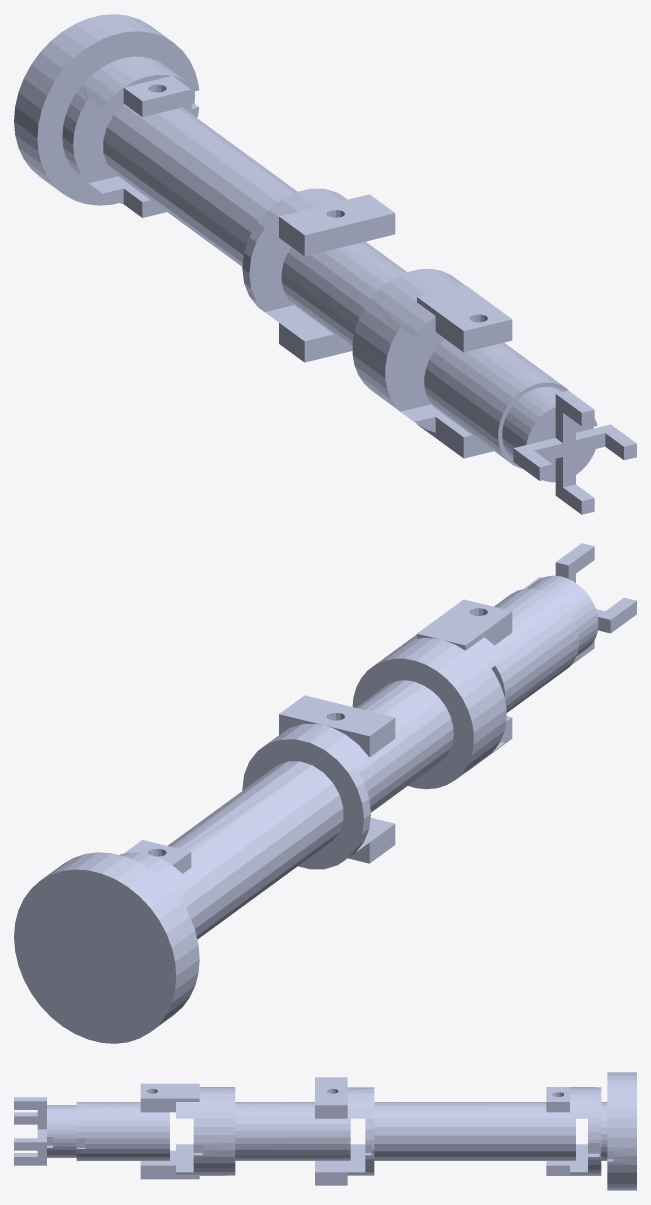
File: my_robot.backup.dae
3 views of the same model, one above another, from view 1: azimuth 30°, elevation 25°; view 2: azimuth 150°, elevation 25°; view 3: azimuth 270°, elevation 25° (orthographic). The views are drawn at different scales.
Visible parts, largest first — view 1: shoulder_link_2, elbow_wrist_link_2, base_link, shoulder_link_1, elbow_wrist_link_1, wrist_claw_link, end_effector, claw; view 2: shoulder_link_2, base_link, elbow_wrist_link_2, elbow_wrist_link_1, wrist_claw_link, claw, shoulder_link_1, end_effector; view 3: shoulder_link_2, elbow_wrist_link_2, elbow_wrist_link_1, wrist_claw_link, base_link, shoulder_link_1, end_effector, claw.
Boxes of the visible parts, x1,y1,x2,y2 form: shoulder_link_2: (103,104,395,362); elbow_wrist_link_2: (352,269,512,458); base_link: (14,14,199,205); shoulder_link_1: (62,56,193,217); elbow_wrist_link_1: (281,241,445,400); wrist_claw_link: (424,339,568,468); end_effector: (513,390,636,514); claw: (502,386,597,482); shoulder_link_2: (167,695,395,939); base_link: (14,852,199,1043); elbow_wrist_link_2: (352,599,512,789); elbow_wrist_link_1: (356,680,453,812); wrist_claw_link: (491,588,578,712); claw: (527,575,598,656); shoulder_link_1: (120,840,193,913); end_effector: (523,543,636,665); shoulder_link_2: (315,1077,575,1185); elbow_wrist_link_2: (140,1083,235,1179); elbow_wrist_link_1: (235,1102,350,1160); wrist_claw_link: (76,1102,169,1160); base_link: (601,1072,636,1190); shoulder_link_1: (546,1087,601,1175); end_effector: (14,1097,46,1165); claw: (47,1105,76,1157).
Bounding box in the file's own units: 0.2 × 1.05 × 0.1993.
